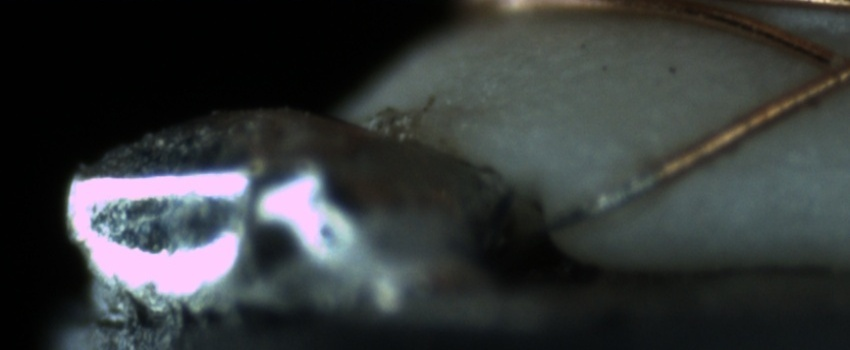CL: (801, 37, 850, 103)
DL: (698, 152, 849, 197)
TS: (538, 167, 666, 236)
TTCW: (504, 146, 696, 259)
